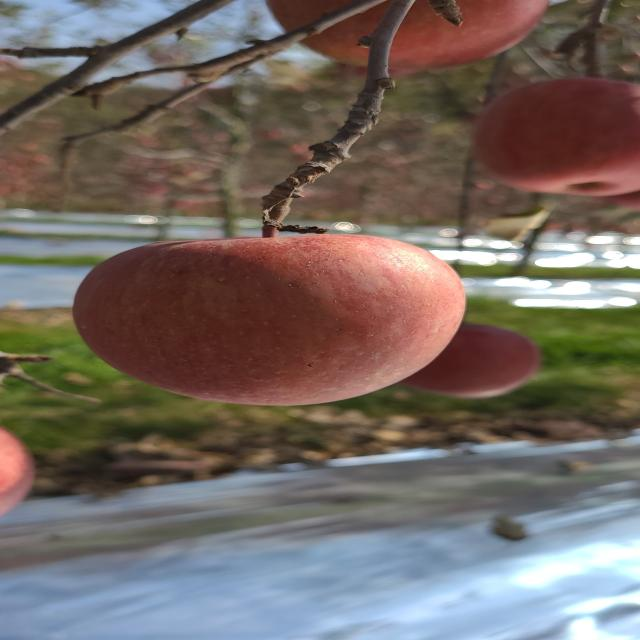fresh: (58, 229, 487, 414)
